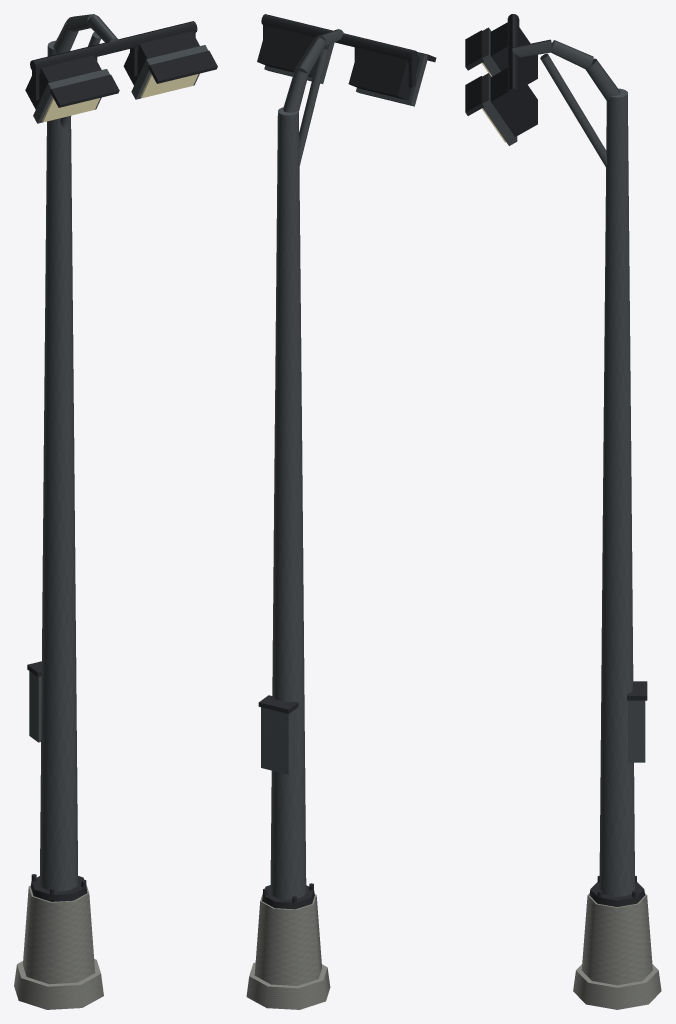
The model's file is tiang_lampu_padang.glb.
3 views of the same model, side by side, from view 1: azimuth 30°, elevation 25°; view 2: azimuth 150°, elevation 25°; view 3: azimuth 270°, elevation 25° (orthographic). The views are drawn at different scales.
Visible parts, largest first — view 1: Tiang_Lampu_Padang; view 2: Tiang_Lampu_Padang; view 3: Tiang_Lampu_Padang.
Boxes of the visible parts, <box> form: Tiang_Lampu_Padang: <box>14,14,217,1009</box>; Tiang_Lampu_Padang: <box>246,14,436,1009</box>; Tiang_Lampu_Padang: <box>465,14,661,1009</box>.
Bounding box in the file's own units: 0.92 × 5.45 × 1.02.
Materials: 1 (1 with a texture image).
